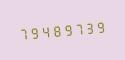eight: (50, 21, 60, 40)
four: (39, 22, 49, 41)
nine: (28, 23, 38, 42), (61, 20, 71, 39), (94, 17, 104, 36)
seven: (17, 23, 27, 43), (72, 19, 82, 38)
three: (83, 18, 93, 37)
